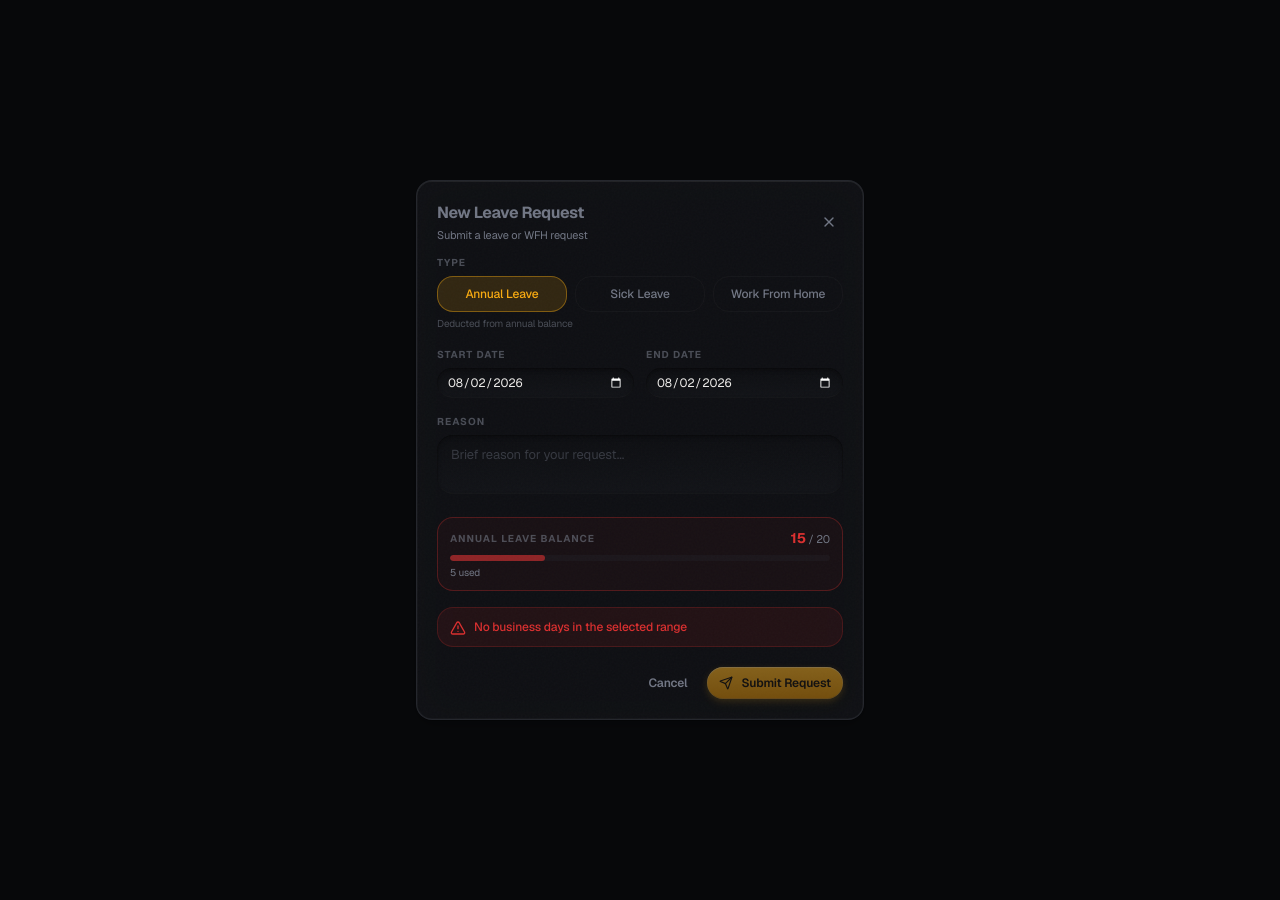
Test case: LeaveRequestForm › does not show balance for WFH type
Click the button "Work From Home" at (778, 294), box x1=713 y1=276 x2=843 y2=312
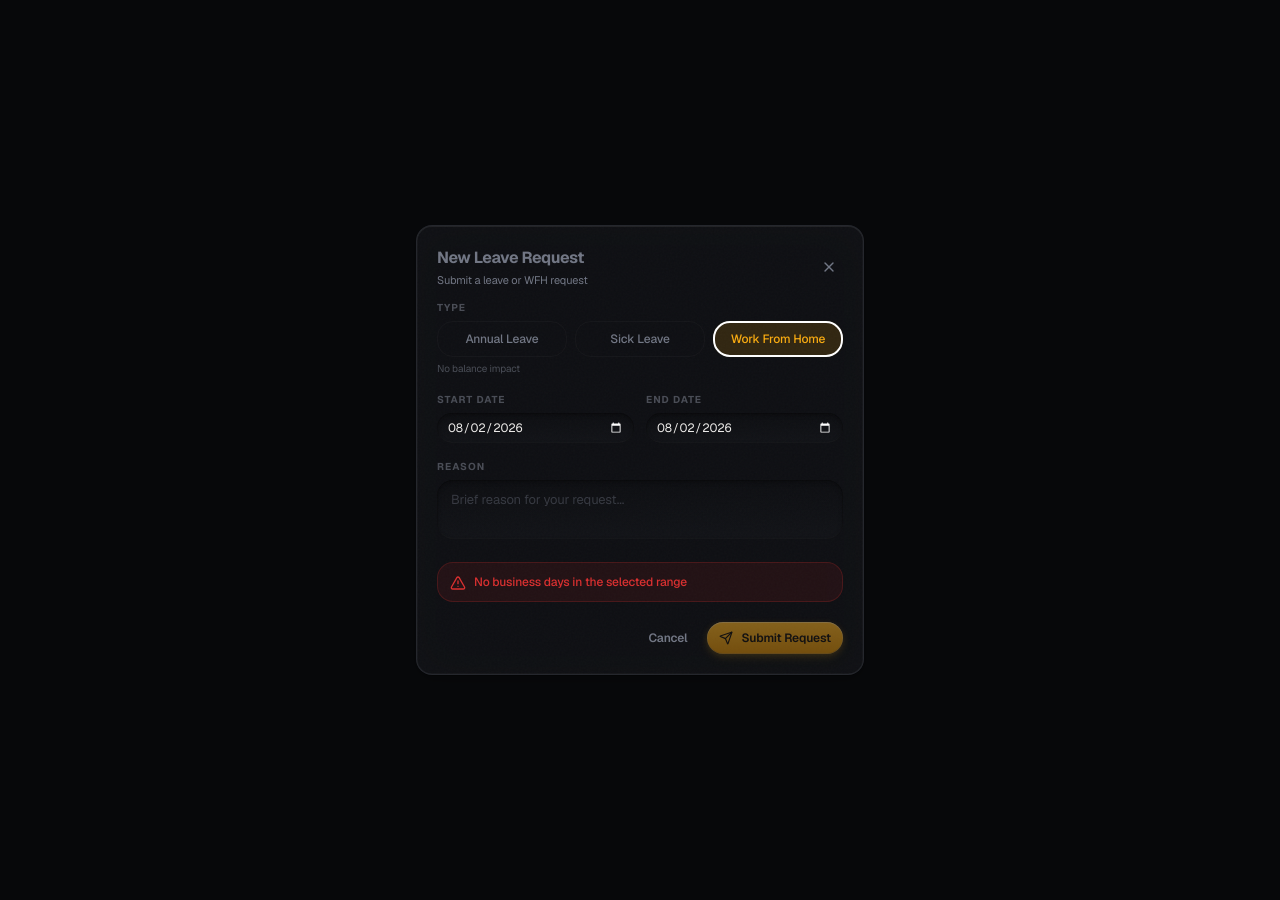
expect the text "Annual Leave Balance" is gone: met
